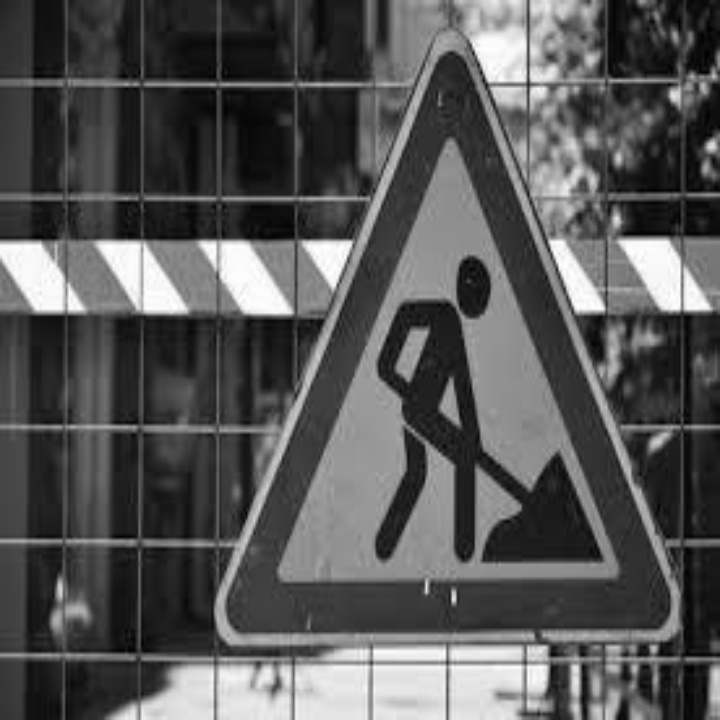const: (341, 206, 652, 619)
